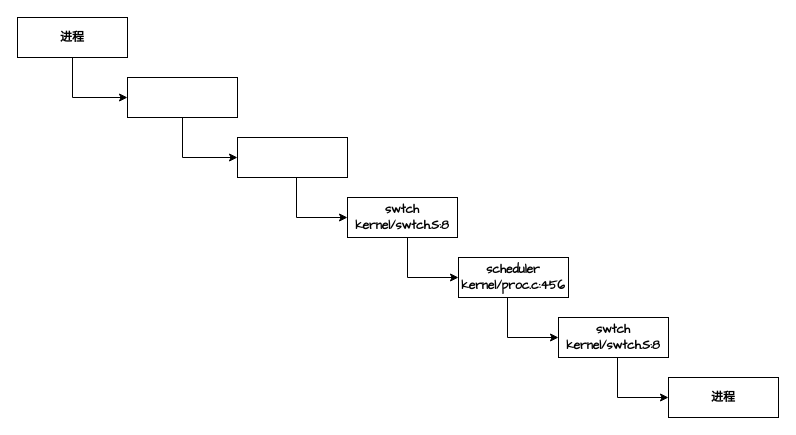
This 796x435 diagram has some shape labels left out. Each missing label, with the centre of its shape:
"sched kernel/proc.c:502" belongs at point (292, 157).
"yield kernel/proc.c:521" belongs at point (182, 97).
